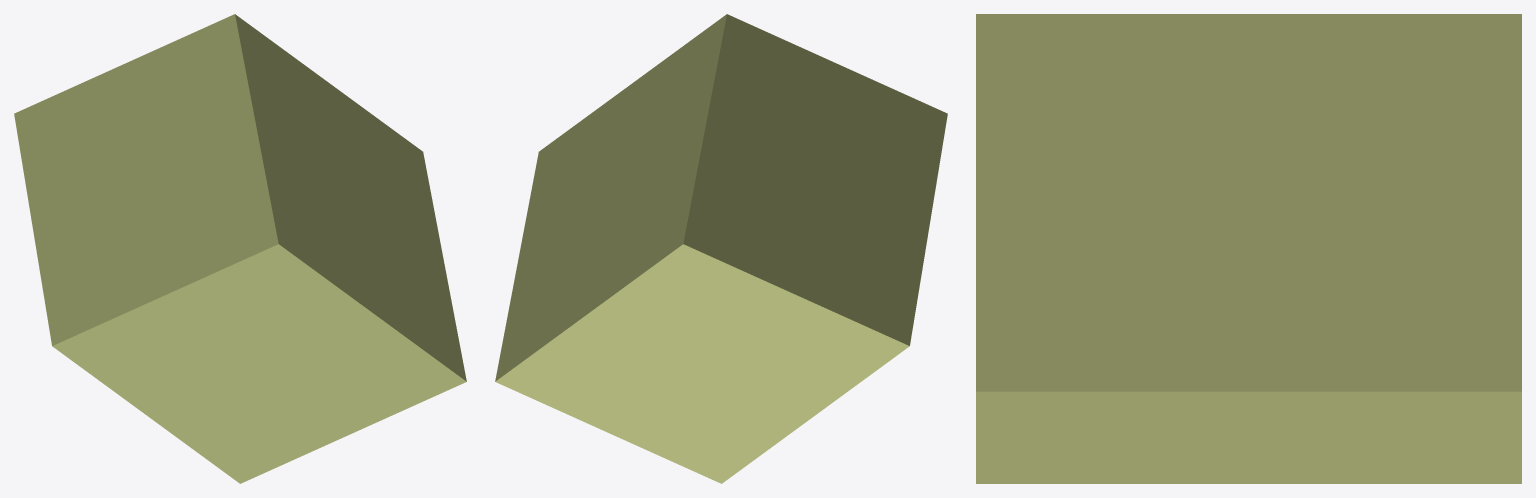
3 renders of one model, left to right at view 1: azimuth 30°, elevation 25°; view 2: azimuth 150°, elevation 25°; view 3: azimuth 270°, elevation 25°, orthographic. The views are drawn at different scales.
Parts seen in each view (by area): view 1: 0_1_0_2_0_0_2_1_1_3; view 2: 0_1_0_2_0_0_2_1_1_3; view 3: 0_1_0_2_0_0_2_1_1_3.
Boxes of the visible parts, left/top/right/bottom form: 0_1_0_2_0_0_2_1_1_3: left=14, top=14, right=466, bottom=483; 0_1_0_2_0_0_2_1_1_3: left=495, top=14, right=947, bottom=483; 0_1_0_2_0_0_2_1_1_3: left=976, top=14, right=1521, bottom=483.
Bounding box in the file's own units: 7.31 × 7.59 × 9.
